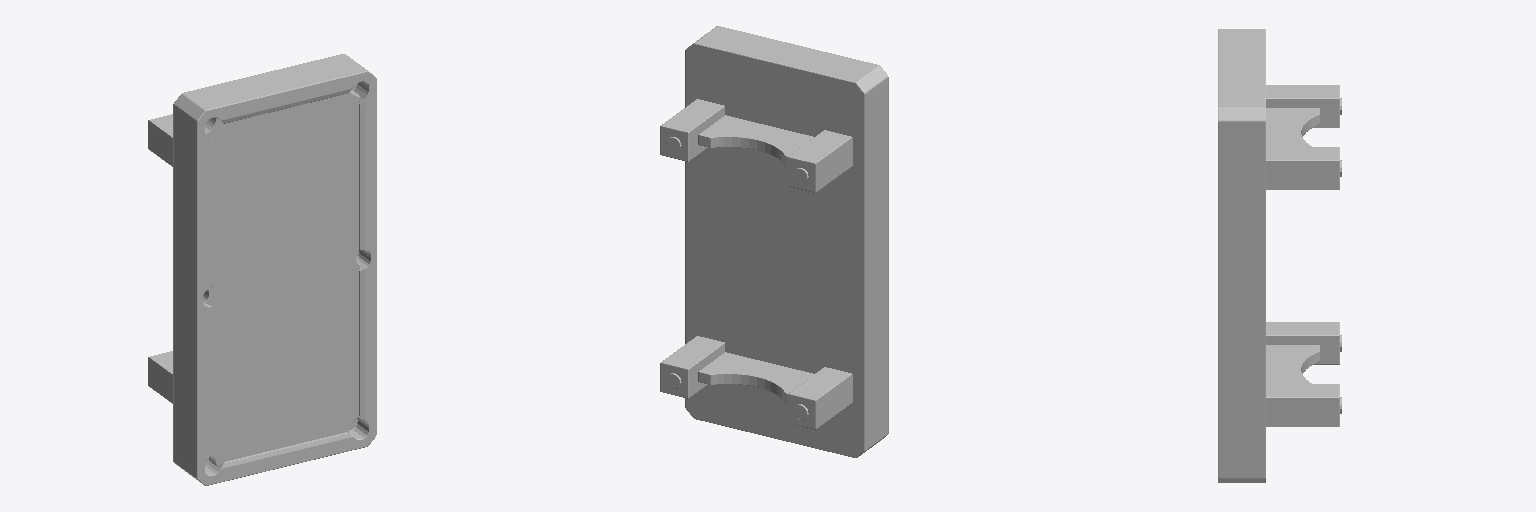
Rendered from table.obj.
3 views of the same model, side by side, from view 1: azimuth 30°, elevation 25°; view 2: azimuth 150°, elevation 25°; view 3: azimuth 270°, elevation 25° (orthographic).
Parts seen in each view (by area): view 1: 10523_Pool_Table_v1_L3; view 2: 10523_Pool_Table_v1_L3; view 3: 10523_Pool_Table_v1_L3.
Boxes of the visible parts, <box> form: 10523_Pool_Table_v1_L3: <box>148,54,376,485</box>; 10523_Pool_Table_v1_L3: <box>660,26,888,457</box>; 10523_Pool_Table_v1_L3: <box>1218,29,1341,482</box>.
Size of the model in its own units: 127 by 254 by 76.2.